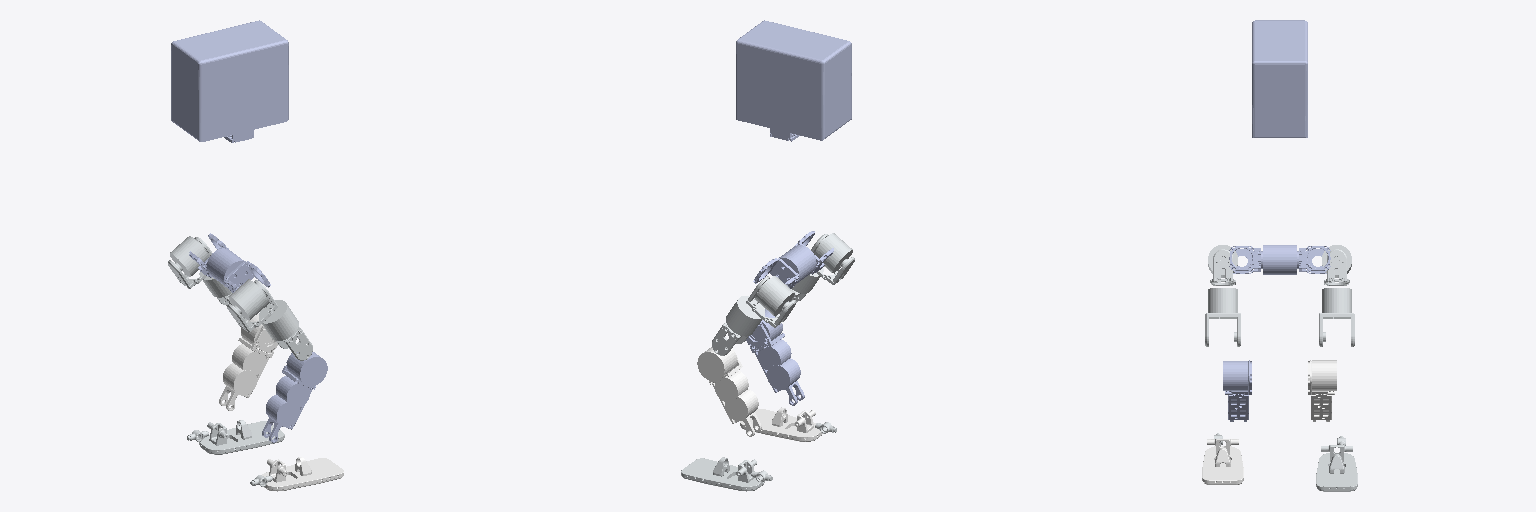
robot.urdf — hi_cl_23_240925:
<?xml version="1.0" encoding="utf-8"?>
<!--
This URDF was automatically created by SolidWorks to URDF Exporter! Originally created by [author] ([email redacted])
Commit Version: 1.6.0-4-g7f85cfe  Build Version: 1.6.7995.38578
For more information, please see http://wiki.ros.org/sw_urdf_exporter
-->
<robot name="hi_cl_23_240925">
	<mujoco>
		<compiler meshdir="../meshes/" balanceinertia="true" discardvisual="false" />
	</mujoco>
	<link name="base_link">
		<inertial>
			<origin xyz="-0.00154853 -7.263E-05 -0.0269642" rpy="0 0 0" />
			<mass value="4" />
			<inertia ixx="0.00957622" ixy="1.02E-06" ixz="-8.442E-05" iyy="0.00654424" iyz="1.11E-06" izz="0.00526567" />
		</inertial>
		<visual>
			<origin xyz="0 0 0" rpy="0 0 0" />
			<geometry>
				<mesh filename="../meshes/base_link.STL" />
			</geometry>
			<material name="">
				<color rgba="0.79216 0.81961 0.93333 1" />
			</material>
		</visual>
		<collision>
			<origin xyz="0 0 -0.07" rpy="0 0 0" />
			<geometry>
				<box size="0.3 0.3 0.25" />
				<!-- <mesh filename="../meshes/base_link.STL" /> -->
			</geometry>
		</collision>
	</link>
<!-- right arm -->
	<link name="r_shoulder_pitch_link">
		<inertial>
			<origin xyz="0.00242196 -0.058252 -8.6807E-05" rpy="0 0 0" />
			<mass value="0.35" />
			<inertia ixx="0.00017393" ixy="-1.346E-05" ixz="-1.1E-07" iyy="0.00013651" iyz="-8E-07" izz="0.00020583" />
		</inertial>
		<visual>
			<origin xyz="0 0 0" rpy="0 0 0" />
			<geometry>
				<mesh filename="../meshes/r_shoulder_pitch_link.STL" />
			</geometry>
			<material name="">
				<color rgba="0.89804 0.91765 0.92941 1" />
			</material>
		</visual>
		<collision>
			<origin xyz="0 0 0" rpy="0 0 0" />
			<geometry>
				<box size="0.01 0.01 0.01" />
				<!-- <mesh filename="../meshes/r_shoulder_pitch_link.STL" /> -->
			</geometry>
		</collision>
	</link>
	<joint name="r_shoulder_pitch_joint" type="fixed">
		<origin xyz="0 -0.08085 0" rpy="0 0 0" />
		<parent link="base_link" />
		<child link="r_shoulder_pitch_link" />
		<axis xyz="0 1 0" />
		<limit lower="-3.14" upper="3.14" effort="10" velocity="4" />
	</joint>
	<link name="r_shoulder_roll_link">
		<inertial>
			<origin xyz="-0.0088047 -8.8789E-05 -0.052824" rpy="0 0 0" />
			<mass value="0.35" />
			<inertia ixx="0.00028497" ixy="-4.1E-07" ixz="8.018E-05" iyy="0.00032147" iyz="-3.6E-07" izz="0.00014121" />
		</inertial>
		<visual>
			<origin xyz="0 0 0" rpy="0 0 0" />
			<geometry>
				<mesh filename="../meshes/r_shoulder_roll_link.STL" />
			</geometry>
			<material name="">
				<color rgba="0.89804 0.91765 0.92941 1" />
			</material>
		</visual>
		<collision>
			<origin xyz="0 0 0" rpy="0 0 0" />
			<geometry>
				<box size="0.01 0.01 0.01" />
				<!-- <mesh filename="../meshes/r_shoulder_roll_link.STL" /> -->
			</geometry>
		</collision>
	</link>
	<joint name="r_shoulder_roll_joint" type="fixed">
		<origin xyz="0 -0.06515 0" rpy="0 0 0" />
		<parent link="r_shoulder_pitch_link" />
		<child link="r_shoulder_roll_link" />
		<axis xyz="1 0 0" />
		<limit lower="-3.14" upper="3.14" effort="10" velocity="4" />
	</joint>
	<link name="r_arm_yaw_link">
		<inertial>
			<origin xyz="-0.002422 -8.6807E-05 -0.059552" rpy="0 0 0" />
			<mass value="0.35" />
			<inertia ixx="0.00017393" ixy="1.1E-07" ixz="1.346E-05" iyy="0.00020583" iyz="-8E-07" izz="0.00013651" />
		</inertial>
		<visual>
			<origin xyz="0 0 0" rpy="0 0 0" />
			<geometry>
				<mesh filename="../meshes/r_arm_yaw_link.STL" />
			</geometry>
			<material name="">
				<color rgba="0.89804 0.91765 0.92941 1" />
			</material>
		</visual>
		<collision>
			<origin xyz="0 0 0" rpy="0 0 0" />
			<geometry>
				<box size="0.01 0.01 0.01" />
				<!-- <mesh filename="../meshes/r_arm_yaw_link.STL" /> -->
			</geometry>
		</collision>
	</link>
	<joint name="r_arm_yaw_joint" type="fixed">
		<origin xyz="-0.0026 0 -0.06495" rpy="0 0 1.5707963" />
		<parent link="r_shoulder_roll_link" />
		<child link="r_arm_yaw_link" />
		<axis xyz="0 0 1" />
		<limit lower="-3.14" upper="3.14" effort="10" velocity="4" />
	</joint>
	<link name="r_arm_roll_link">
		<inertial>
			<origin xyz="0.0088047 8.8789E-05 -0.052824" rpy="0 0 0" />
			<mass value="0.35" />
			<inertia ixx="0.00028497" ixy="-4.1E-07" ixz="-8.018E-05" iyy="0.00032147" iyz="3.6E-07" izz="0.00014121" />
		</inertial>
		<visual>
			<origin xyz="0 0 0" rpy="0 0 0" />
			<geometry>
				<mesh filename="../meshes/r_arm_roll_link.STL" />
			</geometry>
			<material name="">
				<color rgba="0.89804 0.91765 0.92941 1" />
			</material>
		</visual>
		<collision>
			<origin xyz="0 0 0" rpy="0 0 0" />
			<geometry>
				<box size="0.01 0.01 0.01" />
				<!-- <mesh filename="../meshes/r_arm_roll_link.STL" /> -->
			</geometry>
		</collision>
	</link>
	<joint name="r_arm_roll_joint" type="fixed">
		<origin xyz="0 0 -0.06645" rpy="-1.5707963 0 0" />
		<parent link="r_arm_yaw_link" />
		<child link="r_arm_roll_link" />
		<axis xyz="1 0 0" />
		<limit lower="-3.14" upper="3.14" effort="10" velocity="4" />
	</joint>
	<link name="r_wrist_yaw_link">
		<inertial>
			<origin xyz="0 0 -0.06558" rpy="0 0 0" />
			<mass value="0.035143" />
			<inertia ixx="1.2175E-05" ixy="9.4252E-23" ixz="1.2115E-20" iyy="1.2175E-05" iyz="-1.456E-19" izz="3.7315E-06" />
		</inertial>
		<visual>
			<origin xyz="0 0 0" rpy="0 0 0" />
			<geometry>
				<mesh filename="../meshes/r_wrist_yaw_link.STL" />
			</geometry>
			<material name="">
				<color rgba="0.49804 0.49804 0.49804 1" />
			</material>
		</visual>
		<collision>
			<origin xyz="0 0 0" rpy="0 0 0" />
			<geometry>
				<box size="0.01 0.01 0.01" />
				<!-- <mesh filename="../meshes/r_wrist_yaw_link.STL" /> -->
			</geometry>
		</collision>
	</link>
	<joint name="r_wrist_yaw_joint" type="fixed">
		<origin xyz="0.0026 0 -0.06495" rpy="0 0 0" />
		<parent link="r_arm_roll_link" />
		<child link="r_wrist_yaw_link" />
		<axis xyz="0 0 1" />
		<limit lower="-3.14" upper="3.14" effort="10" velocity="4" />
	</joint>
<!-- left arm -->
	<link name="l_shoulder_pitch_link">
		<inertial>
			<origin xyz="0.00095302 0.058734 -8.0741E-05" rpy="0 0 0" />
			<mass value="0.35" />
			<inertia ixx="0.00016981" ixy="1.582E-05" ixz="-6E-08" iyy="0.00014053" iyz="7.3E-07" izz="0.00020608" />
		</inertial>
		<visual>
			<origin xyz="0 0 0" rpy="0 0 0" />
			<geometry>
				<mesh filename="../meshes/l_shoulder_pitch_link.STL" />
			</geometry>
			<material name="">
				<color rgba="1 1 1 1" />
			</material>
		</visual>
		<collision>
			<origin xyz="0 0 0" rpy="0 0 0" />
			<geometry>
				<box size="0.01 0.01 0.01" />
				<!-- <mesh filename="../meshes/l_shoulder_pitch_link.STL" /> -->
			</geometry>
		</collision>
	</link>
	<joint name="l_shoulder_pitch_joint" type="fixed">
		<origin xyz="0 0.08085 0" rpy="0 0 0" />
		<parent link="base_link" />
		<child link="l_shoulder_pitch_link" />
		<axis xyz="0 1 0" />
		<limit lower="-3.14" upper="3.14" effort="10" velocity="4" />
	</joint>
	<link name="l_shoulder_roll_link">
		<inertial>
			<origin xyz="-0.0088047 8.879E-05 -0.052824" rpy="0 0 0" />
			<mass value="0.35" />
			<inertia ixx="0.00028497" ixy="4.1E-07" ixz="8.018E-05" iyy="0.00032147" iyz="3.6E-07" izz="0.00014121" />
		</inertial>
		<visual>
			<origin xyz="0 0 0" rpy="0 0 0" />
			<geometry>
				<mesh filename="../meshes/l_shoulder_roll_link.STL" />
			</geometry>
			<material name="">
				<color rgba="0.89804 0.91765 0.92941 1" />
			</material>
		</visual>
		<collision>
			<origin xyz="0 0 0" rpy="0 0 0" />
			<geometry>
				<box size="0.01 0.01 0.01" />
				<!-- <mesh filename="../meshes/l_shoulder_roll_link.STL" /> -->
			</geometry>
		</collision>
	</link>
	<joint name="l_shoulder_roll_joint" type="fixed">
		<origin xyz="0 0.06515 0" rpy="0 0 0" />
		<parent link="l_shoulder_pitch_link" />
		<child link="l_shoulder_roll_link" />
		<axis xyz="1 0 0" />
		<limit lower="-3.14" upper="3.14" effort="10" velocity="4" />
	</joint>
	<link name="l_arm_yaw_link">
		<inertial>
			<origin xyz="-0.002422 8.6807E-05 -0.059552" rpy="0 0 0" />
			<mass value="0.35" />
			<inertia ixx="0.00017393" ixy="-1.1E-07" ixz="1.346E-05" iyy="0.00020583" iyz="8E-07" izz="0.00013651" />
		</inertial>
		<visual>
			<origin xyz="0 0 0" rpy="0 0 0" />
			<geometry>
				<mesh filename="../meshes/l_arm_yaw_link.STL" />
			</geometry>
			<material name="">
				<color rgba="0.89804 0.91765 0.92941 1" />
			</material>
		</visual>
		<collision>
			<origin xyz="0 0 0" rpy="0 0 0" />
			<geometry>
				<box size="0.01 0.01 0.01" />
				<!-- <mesh filename="../meshes/l_arm_yaw_link.STL" /> -->
			</geometry>
		</collision>
	</link>
	<joint name="l_arm_yaw_joint" type="fixed">
		<origin xyz="-0.0026 0 -0.06495" rpy="0 0 1.5707963" />
		<parent link="l_shoulder_roll_link" />
		<child link="l_arm_yaw_link" />
		<axis xyz="0 0 1" />
		<limit lower="-3.14" upper="3.14" effort="10" velocity="4" />
	</joint>
	<link name="l_arm_roll_link">
		<inertial>
			<origin xyz="0.0088047 -8.879E-05 -0.052824" rpy="0 0 0" />
			<mass value="0.35" />
			<inertia ixx="0.00028497" ixy="4.1E-07" ixz="-8.018E-05" iyy="0.00032147" iyz="-3.6E-07" izz="0.00014121" />
		</inertial>
		<visual>
			<origin xyz="0 0 0" rpy="0 0 0" />
			<geometry>
				<mesh filename="../meshes/l_arm_roll_link.STL" />
			</geometry>
			<material name="">
				<color rgba="0.89804 0.91765 0.92941 1" />
			</material>
		</visual>
		<collision>
			<origin xyz="0 0 0" rpy="0 0 0" />
			<geometry>
				<box size="0.01 0.01 0.01" />
				<!-- <mesh filename="../meshes/l_arm_roll_link.STL" /> -->
			</geometry>
		</collision>
	</link>
	<joint name="l_arm_roll_joint" type="fixed">
		<origin xyz="0 0 -0.06645" rpy="-1.5707963 0 0" />
		<parent link="l_arm_yaw_link" />
		<child link="l_arm_roll_link" />
		<axis xyz="1 0 0" />
		<limit lower="-3.14" upper="3.14" effort="10" velocity="4" />
	</joint>
	<link name="l_wrist_yaw_link">
		<inertial>
			<origin xyz="1.1102E-16 3.7151E-14 -0.06558" rpy="0 0 0" />
			<mass value="0.035143" />
			<inertia ixx="1.2175E-05" ixy="2.3882E-22" ixz="2.2238E-20" iyy="1.2175E-05" iyz="3.9298E-20" izz="3.7315E-06" />
		</inertial>
		<visual>
			<origin xyz="0 0 0" rpy="0 0 0" />
			<geometry>
				<mesh filename="../meshes/l_wrist_yaw_link.STL" />
			</geometry>
			<material name="">
				<color rgba="0.49804 0.49804 0.49804 1" />
			</material>
		</visual>
		<collision>
			<origin xyz="0 0 0" rpy="0 0 0" />
			<geometry>
				<box size="0.01 0.01 0.01" />
				<!-- <mesh filename="../meshes/l_wrist_yaw_link.STL" /> -->
			</geometry>
		</collision>
	</link>
	<joint name="l_wrist_yaw_joint" type="fixed">
		<origin xyz="0.0026 0 -0.06495" rpy="0 0 0" />
		<parent link="l_arm_roll_link" />
		<child link="l_wrist_yaw_link" />
		<axis xyz="0 0 1" />
		<limit lower="-3.14" upper="3.14" effort="10" velocity="4" />
	</joint>
<!-- loin -->
	<link name="loin_yaw_link">
		<inertial>
			<origin xyz="0 0 -0.060242" rpy="0 0 0" />
			<mass value="1.305" />
			<inertia ixx="0.0015765" ixy="2.98E-06" ixz="0" iyy="0.00041876" iyz="0" izz="0.0014561" />
		</inertial>
		<visual>
			<origin xyz="0 0 0" rpy="0 0 0" />
			<geometry>
				<mesh filename="../meshes/loin_yaw_link.STL" />
			</geometry>
			<material name="">
				<color rgba="1 1 1 1" />
			</material>
		</visual>
		<collision>
			<origin xyz="0 0 -0.06" rpy="0 0 0" />
			<geometry>
				<box size="0.06 0.12 0.06" />
				<!-- <mesh filename="../meshes/loin_yaw_link.STL" /> -->
			</geometry>
		</collision>
	</link>
	<joint name="loin_yaw_joint" type="fixed">
		<origin xyz="0 0 -0.19425" rpy="0 0 0" />
		<parent link="base_link" />
		<child link="loin_yaw_link" />
		<axis xyz="0 0 1" />
		<limit lower="-3.14" upper="3.14" effort="10" velocity="4" />
	</joint>
<!-- right leg -->
	<link name="r_hip_pitch_link">
		<inertial>
			<origin xyz="-0.00022626 -0.06684 9.015E-05" rpy="0 0 0" />
			<mass value="0.661" />
			<inertia ixx="0.00018617" ixy="-1E-08" ixz="1.2E-07" iyy="0.00019782" iyz="4.7E-07" izz="0.0002263" />
		</inertial>
		<visual>
			<origin xyz="0 0 0" rpy="0 0 0" />
			<geometry>
				<mesh filename="../meshes/r_hip_pitch_link.STL" />
			</geometry>
			<material name="">
				<color rgba="0.79216 0.81961 0.93333 1" />
			</material>
		</visual>
		<collision>
			<origin xyz="0 -0.07 0" rpy="0 0 0" />
			<geometry>
				<box size="0.06 0.06 0.06" />
				<!-- <mesh filename="../meshes/r_hip_pitch_link.STL" /> -->
			</geometry>
		</collision>
	</link>
	<joint name="r_hip_pitch_joint" type="revolute">
		<origin xyz="0 -0.02875 -0.06425" rpy="0 -0.55 0" />
		<parent link="loin_yaw_link" />
		<child link="r_hip_pitch_link" />
		<axis xyz="0 1 0" />
		<limit lower="-1.0" upper="1.8" effort="10" velocity="4" />
	</joint>
	<link name="r_hip_roll_link">
		<inertial>
			<origin xyz="0.00088845 -0.00019059 -0.066357" rpy="0 0 0" />
			<mass value="0.54219" />
			<inertia ixx="0.00096893" ixy="-6.4E-07" ixz="-2.26E-05" iyy="0.0012165" iyz="-2.89E-06" izz="0.0004037" />
		</inertial>
		<visual>
			<origin xyz="0 0 0" rpy="0 0 0" />
			<geometry>
				<mesh filename="../meshes/r_hip_roll_link.STL" />
			</geometry>
			<material name="">
				<color rgba="0.89804 0.91765 0.92941 1" />
			</material>
		</visual>
		<collision>
			<origin xyz="0 0 -0.08" rpy="0 0 0" />
			<geometry>
				<box size="0.06 0.06 0.06" />
				<!-- <mesh filename="../meshes/r_hip_roll_link.STL" /> -->
			</geometry>
		</collision>
	</link>
	<joint name="r_hip_roll_joint" type="revolute">
		<origin xyz="0 -0.06875 0" rpy="0 0 0" />
		<parent link="r_hip_pitch_link" />
		<child link="r_hip_roll_link" />
		<axis xyz="1 0 0" />
		<limit lower="-0.5" upper="0.12" effort="10" velocity="4" />
	</joint>
	<link name="r_thigh_link">
		<inertial>
			<origin xyz="0 0.0019897 -0.066297" rpy="0 0 0" />
			<mass value="0.23898" />
			<inertia ixx="0.00050536" ixy="-1.1811E-12" ixz="5.2665E-11" iyy="0.00032488" iyz="1.858E-05" izz="0.00029126" />
		</inertial>
		<visual>
			<origin xyz="0 0 0" rpy="0 0 0" />
			<geometry>
				<mesh filename="../meshes/r_thigh_link.STL" />
			</geometry>
			<material name="">
				<color rgba="0.89804 0.91765 0.92941 1" />
			</material>
		</visual>
		<collision>
			<origin xyz="0 0 -0.06" rpy="0 0 0" />
			<geometry>
				<box size="0.06 0.06 0.06" />
				<mesh filename="../meshes/r_thigh_link.STL" />
			</geometry>
		</collision>
	</link>
	<joint name="r_thigh_joint" type="revolute">
		<origin xyz="0 0 -0.09425" rpy="0 0 0" />
		<parent link="r_hip_roll_link" />
		<child link="r_thigh_link" />
		<axis xyz="0 0 1" />
		<limit lower="-0.6" upper="0.3" effort="10" velocity="4" />
	</joint>
	<link name="r_calf_link">
		<inertial>
			<origin xyz="-8.965E-05 -0.0020679 -0.050651" rpy="0 0 0" />
			<mass value="1.2" />
			<inertia ixx="0.0068013" ixy="2.6E-07" ixz="-3.47E-06" iyy="0.006751" iyz="-4.2E-07" izz="0.00034715" />
		</inertial>
		<visual>
			<origin xyz="0 0 0" rpy="0 0 0" />
			<geometry>
				<mesh filename="../meshes/r_calf_link.STL" />
			</geometry>
			<material name="">
				<color rgba="0.79216 0.81961 0.93333 1" />
			</material>
		</visual>
		<collision>
			<origin xyz="0 0 -0.1" rpy="0 0 0" />
			<geometry>
				<box size="0.012 0.06 0.1" />
				<!-- <mesh filename="../meshes/r_calf_link.STL" /> -->
			</geometry>
		</collision>
	</link>
	<joint name="r_calf_joint" type="revolute">
		<origin xyz="0 0 -0.10575" rpy="0 1.1 0" />
		<parent link="r_thigh_link" />
		<child link="r_calf_link" />
		<axis xyz="0 1 0" />
		<limit lower="-0.8" upper="1.5" effort="10" velocity="4" />
	</joint>
	<link name="r_ankle_pitch_link">
		<inertial>
			<origin xyz="0.0072806 0.00051939 2.2469E-12" rpy="0 0 0" />
			<mass value="0.16682" />
			<inertia ixx="0.0001187" ixy="1E-06" ixz="0" iyy="0.0001994" iyz="3.7295E-17" izz="0.00028526" />
		</inertial>
		<visual>
			<origin xyz="0 0 0" rpy="0 0 0" />
			<geometry>
				<mesh filename="../meshes/r_ankle_pitch_link.STL" />
			</geometry>
			<material name="">
				<color rgba="0.89804 0.91765 0.92941 1" />
			</material>
		</visual>
		<collision>
			<origin xyz="0 0 0" rpy="0 0 0" />
			<geometry>
				<box size="0.078 0.08 0.05" />
				<!-- <mesh filename="../meshes/r_ankle_pitch_link.STL" /> -->
			</geometry>
		</collision>
	</link>
	<joint name="r_ankle_pitch_joint" type="revolute">
		<origin xyz="0 0 -0.2" rpy="0 -0.55 0" />
		<parent link="r_calf_link" />
		<child link="r_ankle_pitch_link" />
		<axis xyz="0 1 0" />
		<limit lower="-0.45" upper="1.15" effort="10" velocity="4" />
	</joint>
	<link name="r_ankle_roll_link">
		<inertial>
			<origin xyz="-0.040001 9.312E-05 -0.023563" rpy="0 0 0" />
			<mass value="0.5" />
			<inertia ixx="0.00040772" ixy="-2.34E-06" ixz="-9.125E-05" iyy="0.0015071" iyz="-4.6E-07" izz="0.0013858" />
		</inertial>
		<visual>
			<origin xyz="0 0 0" rpy="0 0 0" />
			<geometry>
				<mesh filename="../meshes/r_ankle_roll_link.STL" />
			</geometry>
			<material name="">
				<color rgba="1 1 1 1" />
			</material>
		</visual>
		<collision>
			<origin xyz="0 0 0" rpy="0 0 0" />
			<geometry>
				<mesh filename="../meshes/r_ankle_roll_link.STL" />
			</geometry>
		</collision>
	</link>
	<joint name="r_ankle_roll_joint" type="revolute">
		<origin xyz="0.07525 -0.0003 0" rpy="0 0 0" />
		<parent link="r_ankle_pitch_link" />
		<child link="r_ankle_roll_link" />
		<axis xyz="1 0 0" />
		<limit lower="-0.15" upper="0.15" effort="10" velocity="4" />
	</joint>
<!-- left leg -->
	<link name="l_hip_pitch_link">
		<inertial>
			<origin xyz="-0.00022626 0.06700617 8.992E-05" rpy="0 0 0" />
			<mass value="0.661" />
			<inertia ixx="0.00018657" ixy="1.9E-07" ixz="1.1E-07" iyy="0.00019782" iyz="2.5E-07" izz="0.00022671" />
		</inertial>
		<visual>
			<origin xyz="0 0 0" rpy="0 0 0" />
			<geometry>
				<mesh filename="../meshes/l_hip_pitch_link.STL" />
			</geometry>
			<material name="">
				<color rgba="0.79216 0.81961 0.93333 1" />
			</material>
		</visual>
		<collision>
			<origin xyz="0 0.07 0" rpy="0 0 0" />
			<geometry>
				<box size="0.06 0.06 0.06" />
				<!-- <mesh filename="../meshes/l_hip_pitch_link.STL" /> -->
			</geometry>
		</collision>
	</link>
	<joint name="l_hip_pitch_joint" type="revolute">
		<origin xyz="0 0.02875 -0.06425" rpy="0 -0.55 0" />
		<parent link="loin_yaw_link" />
		<child link="l_hip_pitch_link" />
		<axis xyz="0 1 0" />
		<limit lower="-1.0" upper="1.8" effort="10" velocity="4" />
	</joint>
	<link name="l_hip_roll_link">
		<inertial>
			<origin xyz="0.00051186 -0.000186 -0.06635681" rpy="0 0 0" />
			<mass value="0.54219" />
			<inertia ixx="0.00096867" ixy="4.9E-07" ixz="-2.833E-05" iyy="0.00121705" iyz="-2.83E-06" izz="0.00040399" />
		</inertial>
		<visual>
			<origin xyz="0 0 0" rpy="0 0 0" />
			<geometry>
				<mesh filename="../meshes/l_hip_roll_link.STL" />
			</geometry>
			<material name="">
				<color rgba="0.89804 0.91765 0.92941 1" />
			</material>
		</visual>
		<collision>
			<origin xyz="0 0 -0.08" rpy="0 0 0" />
			<geometry>
				<box size="0.06 0.06 0.06" />
				<!-- <mesh filename="../meshes/l_hip_roll_link.STL" /> -->
			</geometry>
		</collision>
	</link>
	<joint name="l_hip_roll_joint" type="revolute">
		<origin xyz="0 0.06875 0" rpy="0 0 0" />
		<parent link="l_hip_pitch_link" />
		<child link="l_hip_roll_link" />
		<axis xyz="1 0 0" />
		<limit lower="-0.12" upper="0.5" effort="10" velocity="4" />
	</joint>
	<link name="l_thigh_link">
		<inertial>
			<origin xyz="0 -0.0019897 -0.066297" rpy="0 0 0" />
			<mass value="0.23898" />
			<inertia ixx="0.00050536" ixy="0" ixz="0" iyy="0.00032488" iyz="-1.858E-05" izz="0.00029126" />
		</inertial>
		<visual>
			<origin xyz="0 0 0" rpy="0 0 0" />
			<geometry>
				<mesh filename="../meshes/l_thigh_link.STL" />
			</geometry>
			<material name="">
				<color rgba="0.89804 0.91765 0.92941 1" />
			</material>
		</visual>
		<collision>
			<origin xyz="0 0 -0.06" rpy="0 0 0" />
			<geometry>
				<box size="0.06 0.06 0.06" />
				<!-- <mesh filename="../meshes/l_thigh_link.STL" /> -->
			</geometry>
		</collision>
	</link>
	<joint name="l_thigh_joint" type="revolute">
		<origin xyz="0 0 -0.09425" rpy="0 0 0" />
		<parent link="l_hip_roll_link" />
		<child link="l_thigh_link" />
		<axis xyz="0 0 1" />
		<limit lower="-0.3" upper="0.6" effort="10" velocity="4" />
	</joint>
	<link name="l_calf_link">
		<inertial>
			<origin xyz="8.965E-05 0.00206794 -0.05065108" rpy="0 0 0" />
			<mass value="1.2" />
			<inertia ixx="0.0068013" ixy="2.6E-07" ixz="3.47E-06" iyy="0.00675095" iyz="4.2E-07" izz="0.00034715" />
		</inertial>
		<visual>
			<origin xyz="0 0 0" rpy="0 0 0" />
			<geometry>
				<mesh filename="../meshes/l_calf_link.STL" />
			</geometry>
			<material name="">
				<color rgba="1 1 1 1" />
			</material>
		</visual>
		<collision>
			<origin xyz="0 0 -0.1" rpy="0 0 0" />
			<geometry>
				<box size="0.012 0.06 0.1" />
				<!-- <mesh filename="../meshes/l_calf_link.STL" /> -->
			</geometry>
		</collision>
	</link>
	<joint name="l_calf_joint" type="revolute">
		<origin xyz="0 0 -0.10575" rpy="0 1.1 0" />
		<parent link="l_thigh_link" />
		<child link="l_calf_link" />
		<axis xyz="0 1 0" />
		<limit lower="-0.8" upper="1.5" effort="10" velocity="4" />
	</joint>
	<link name="l_ankle_pitch_link">
		<inertial>
			<origin xyz="0.00467932 -0.00047699 2.1252E-12" rpy="0 0 0" />
			<mass value="0.16682" />
			<inertia ixx="0.00011981" ixy="-6.4E-07" ixz="-8.1927E-13" iyy="0.00022179" iyz="-3.7346E-17" izz="0.00030766" />
		</inertial>
		<visual>
			<origin xyz="0 0 0" rpy="0 0 0" />
			<geometry>
				<mesh filename="../meshes/l_ankle_pitch_link.STL" />
			</geometry>
			<material name="">
				<color rgba="0.89804 0.91765 0.92941 1" />
			</material>
		</visual>
		<collision>
			<origin xyz="0 0 0" rpy="0 0 0" />
			<geometry>
				<box size="0.078 0.08 0.05" />
				<!-- <mesh filename="../meshes/l_ankle_pitch_link.STL" /> -->
			</geometry>
		</collision>
	</link>
	<joint name="l_ankle_pitch_joint" type="revolute">
		<origin xyz="0 0 -0.2" rpy="0 -0.55 0" />
		<parent link="l_calf_link" />
		<child link="l_ankle_pitch_link" />
		<axis xyz="0 1 0" />
		<limit lower="-0.45" upper="1.15" effort="10" velocity="4" />
	</joint>
	<link name="l_ankle_roll_link">
		<inertial>
			<origin xyz="-0.03772 9.584E-05 -0.02425" rpy="0 0 0" />
			<mass value="0.5" />
			<inertia ixx="0.0004095" ixy="-2.3E-06" ixz="-0.00012156" iyy="0.00145" iyz="-5.1E-07" izz="0.0013334" />
		</inertial>
		<visual>
			<origin xyz="0 0 0" rpy="0 0 0" />
			<geometry>
				<mesh filename="../meshes/l_ankle_roll_link.STL" />
			</geometry>
			<material name="">
				<color rgba="0.89804 0.91765 0.92941 1" />
			</material>
		</visual>
		<collision>
			<origin xyz="0 0 0" rpy="0 0 0" />
			<geometry>
				<mesh filename="../meshes/l_ankle_roll_link.STL" />
			</geometry>
		</collision>
	</link>
	<joint name="l_ankle_roll_joint" type="revolute">
		<origin xyz="0.07525 0.0003 0" rpy="0 0 0" />
		<parent link="l_ankle_pitch_link" />
		<child link="l_ankle_roll_link" />
		<axis xyz="1 0 0" />
		<limit lower="-0.15" upper="0.15" effort="10" velocity="4" />
	</joint>
</robot>

--- Render facts (derived) ---
3 views of the same robot in one strip: view 1: azimuth 30°, elevation 25°; view 2: azimuth 150°, elevation 25°; view 3: azimuth 270°, elevation 25° (orthographic).
Robot: hi_cl_23_240925 — 24 links, 23 joints (12 revolute, 11 fixed); root link base_link; default pose: all joints at 0.
Links seen in each view (by area): view 1: base_link, r_calf_link, l_calf_link, r_ankle_roll_link, l_ankle_roll_link, r_thigh_link, r_hip_roll_link, l_hip_roll_link, r_hip_pitch_link, l_hip_pitch_link; view 2: base_link, l_calf_link, r_calf_link, l_ankle_roll_link, r_ankle_roll_link, l_thigh_link, l_hip_roll_link, r_hip_roll_link, l_hip_pitch_link, r_hip_pitch_link; view 3: base_link, l_ankle_roll_link, r_ankle_roll_link, l_calf_link, r_calf_link, r_hip_pitch_link, r_thigh_link, l_thigh_link, l_hip_pitch_link, r_hip_roll_link, l_hip_roll_link.
Boxes of the visible links, box(x1,y1,x2,y2) form: base_link: box(171, 20, 288, 142); r_calf_link: box(262, 352, 327, 442); l_calf_link: box(219, 314, 277, 410); r_ankle_roll_link: box(261, 457, 343, 491); l_ankle_roll_link: box(199, 420, 284, 454); r_thigh_link: box(259, 300, 312, 360); r_hip_roll_link: box(227, 279, 277, 332); l_hip_roll_link: box(168, 236, 211, 288); r_hip_pitch_link: box(211, 252, 270, 292); l_hip_pitch_link: box(189, 233, 240, 281); base_link: box(736, 20, 851, 141); l_calf_link: box(697, 347, 761, 436); r_calf_link: box(746, 309, 804, 405); l_ankle_roll_link: box(681, 457, 764, 491); r_ankle_roll_link: box(740, 407, 822, 441); l_thigh_link: box(712, 296, 764, 355); l_hip_roll_link: box(746, 276, 796, 327); r_hip_roll_link: box(811, 233, 854, 284); l_hip_pitch_link: box(753, 248, 811, 288); r_hip_pitch_link: box(782, 231, 833, 279); base_link: box(1252, 20, 1307, 137); l_ankle_roll_link: box(1316, 445, 1357, 491); r_ankle_roll_link: box(1202, 439, 1243, 484); l_calf_link: box(1308, 360, 1336, 421); r_calf_link: box(1223, 360, 1251, 421); r_hip_pitch_link: box(1229, 245, 1288, 274); r_thigh_link: box(1205, 288, 1240, 346); l_thigh_link: box(1319, 288, 1354, 346); l_hip_pitch_link: box(1271, 245, 1330, 274); r_hip_roll_link: box(1208, 245, 1237, 285); l_hip_roll_link: box(1322, 245, 1351, 285).
Size in the robot's own frame: 0.2319 by 0.2666 by 0.7871 metres.
Meshes: 24 distinct files referenced, 13 mesh visuals loaded (13 binary STL); not drawn: 11 (reference not matched to a file when rendering).